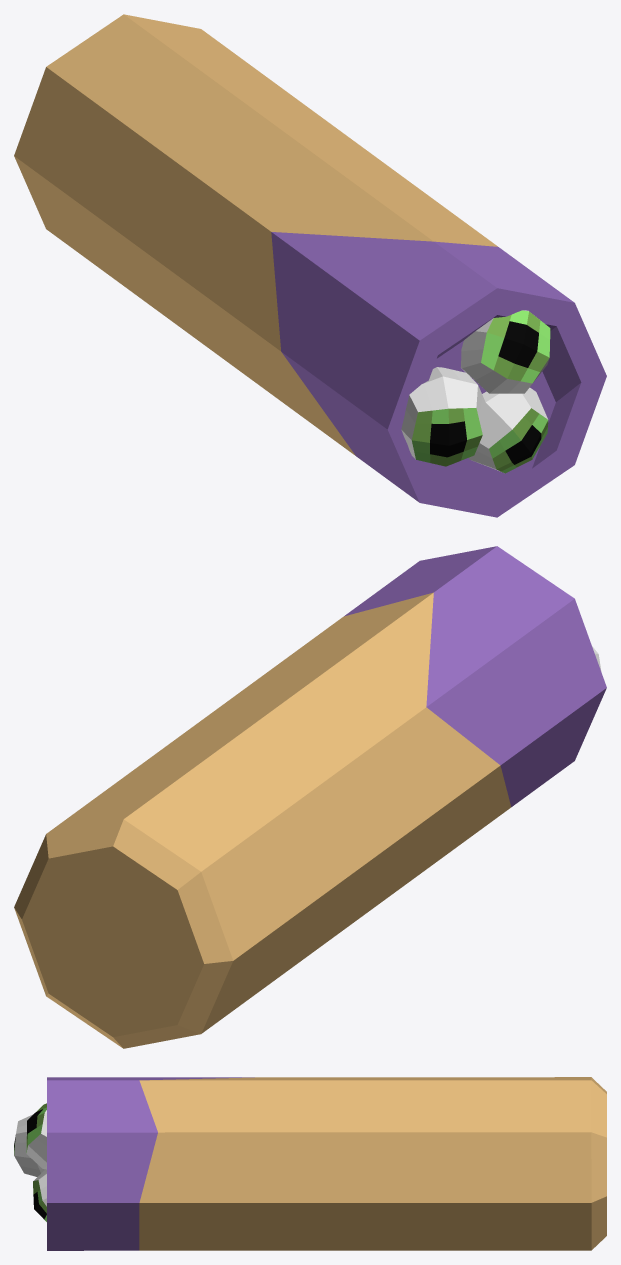
The model's file is rollo.glb.
3 views of the same model, one above another, from view 1: azimuth 30°, elevation 25°; view 2: azimuth 150°, elevation 25°; view 3: azimuth 270°, elevation 25° (orthographic). The views are drawn at different scales.
Visible parts, largest first — view 1: Cube.051; view 2: Cube.051; view 3: Cube.051.
Boxes of the visible parts, x1=… form: Cube.051: x1=14, y1=14, x2=606, y2=517; Cube.051: x1=14, y1=546, x2=606, y2=1048; Cube.051: x1=14, y1=1077, x2=606, y2=1250.
Bounding box in the file's own units: 0.0658 × 0.0659 × 0.2115.
